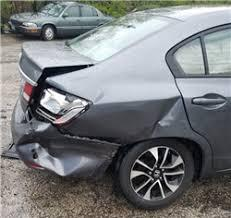quaterpanel-dent: (106, 92, 191, 161)
rear-bumper-dent: (1, 120, 128, 189)
